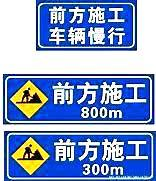sign: (4, 74, 153, 124), (5, 132, 154, 180), (37, 2, 136, 49)
